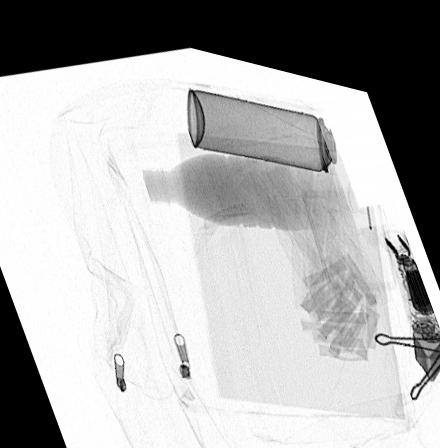Sprayer: (185, 79, 372, 166)
